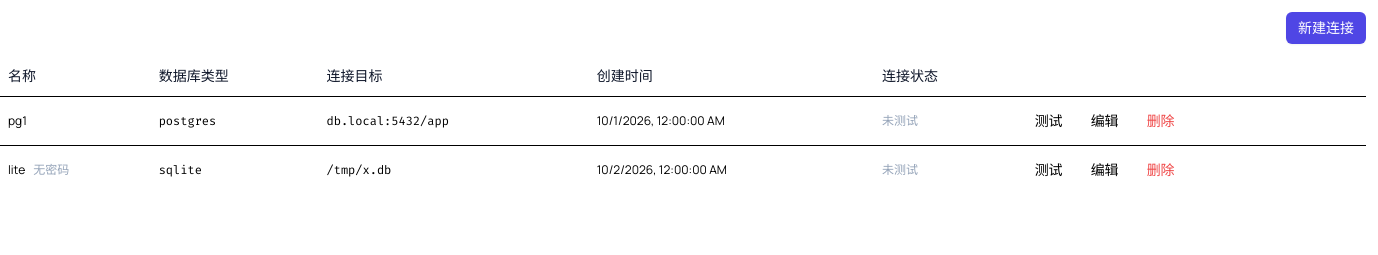
Test: ConnectionsPanel — 编辑与删除 › tests a saved row by connectionId; failure detail expands below the row
Check: the text "未测试" is shown 2 times, box [882,112,918,128]; [882,160,918,178]
Click the button "测试" in the row of "pg1".
click(1049, 120)  # box [1023,104,1075,136]
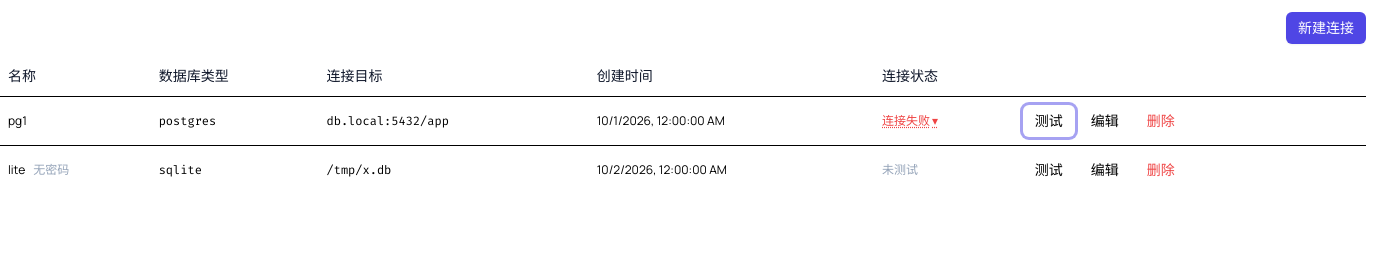
Check: the text "connection refused" is not shown
// Clicking the badge expands the sub-row: reason one-liner + raw driver text
Click the button "连接失败 ▾".
click(910, 120)  # box [882,112,938,128]
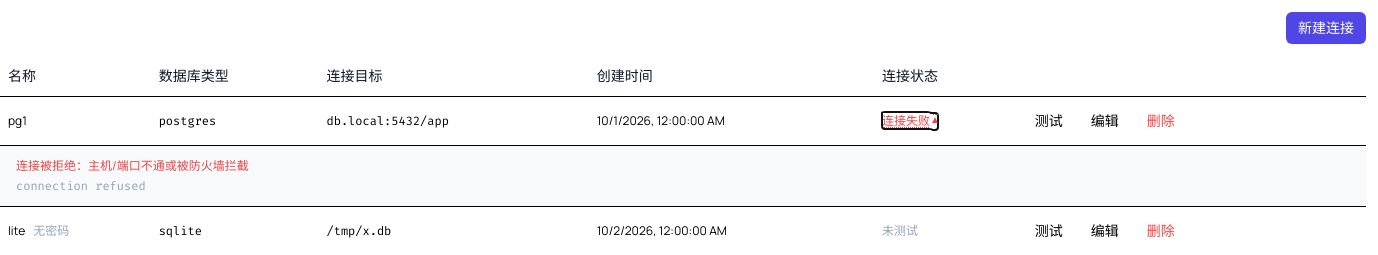
Check: the text "连接被拒绝：主机/端口不通或被防火墙拦截" is shown, box [16,156,249,174]
Check: the text "connection refused" is shown, box [16,178,146,194]
// A second click collapses it again
Click the button "连接失败 ▾".
click(910, 120)  # box [882,112,938,128]
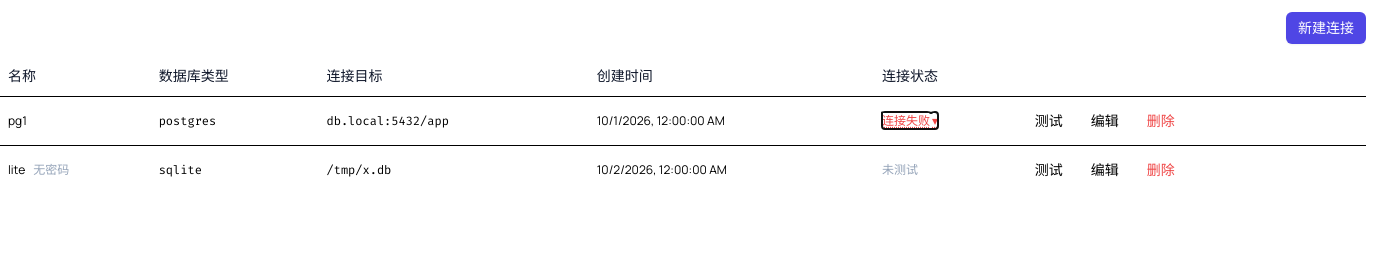
Check: the text "connection refused" is gone
